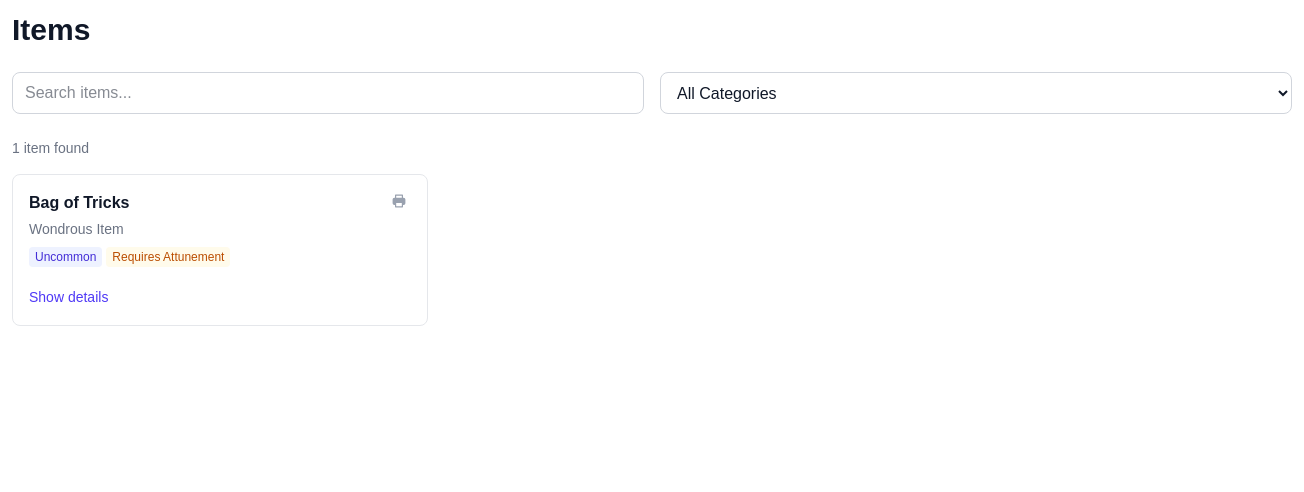
Test case: ItemListPage › item detail (collapsible description) › collapses the description when Hide details is clicked
The width and height of the screenshot is (1304, 492).
Click the button "Show details": coordinates (69, 297) x1=29 y1=287 x2=108 y2=307
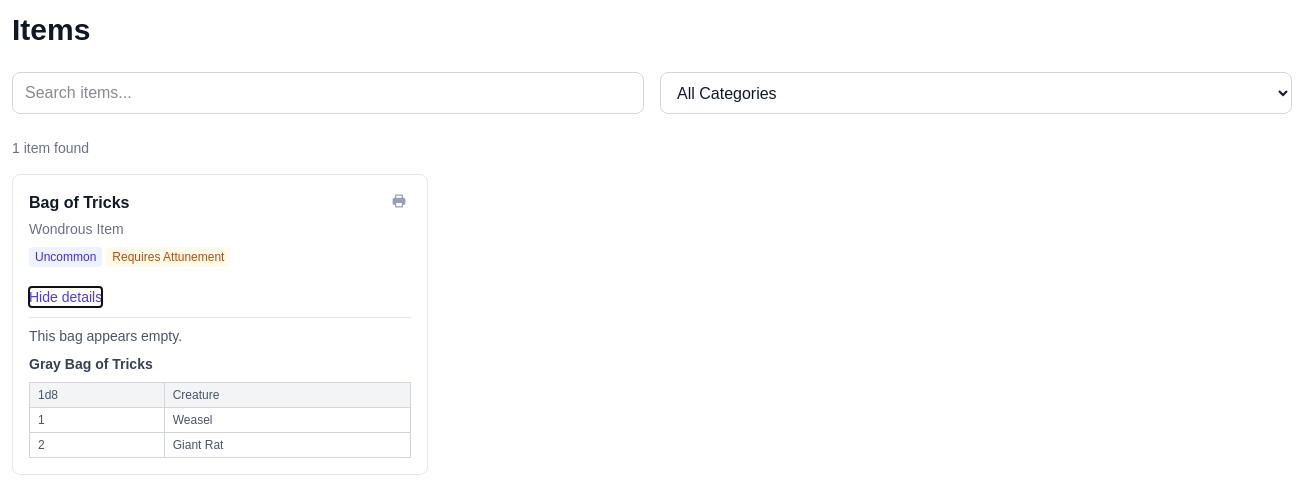
Click the button "Hide details": coordinates (66, 297) x1=29 y1=287 x2=102 y2=307
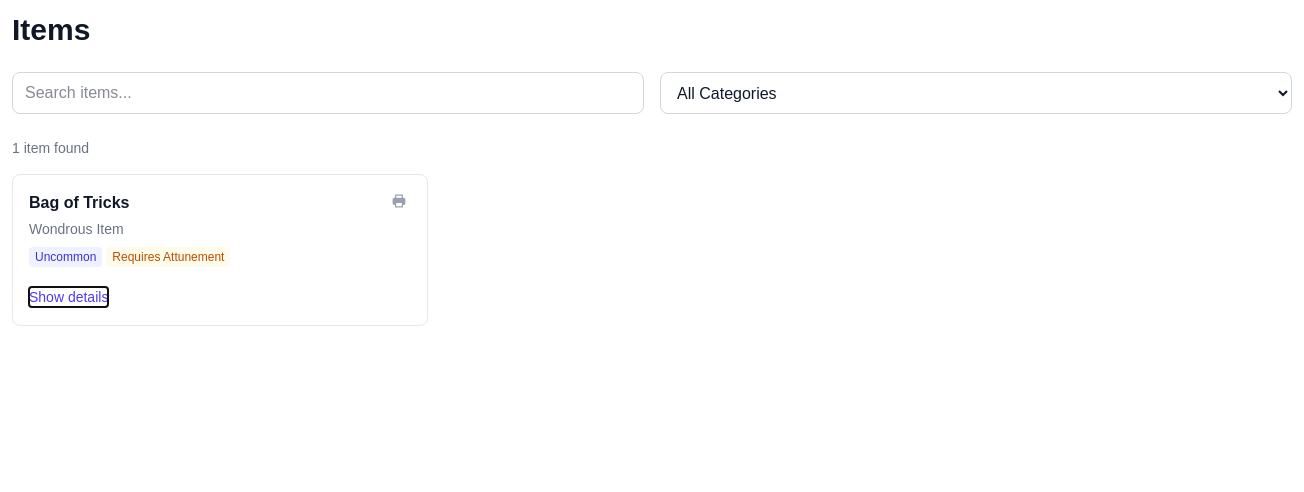
Result: the table is gone
Result: the button "Show details" is shown at x1=29 y1=287 x2=108 y2=307
